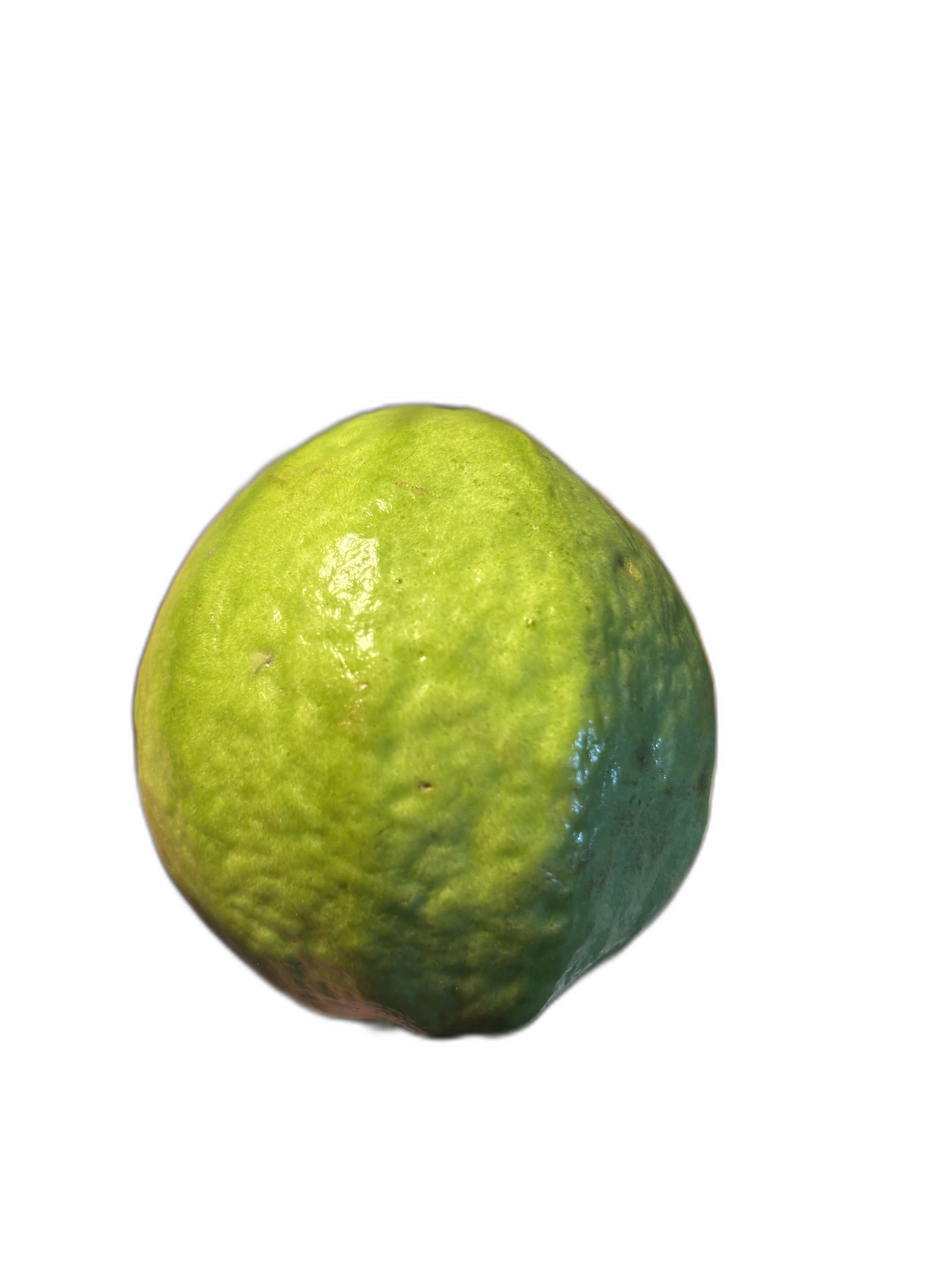guava: (244, 237, 889, 1038)
